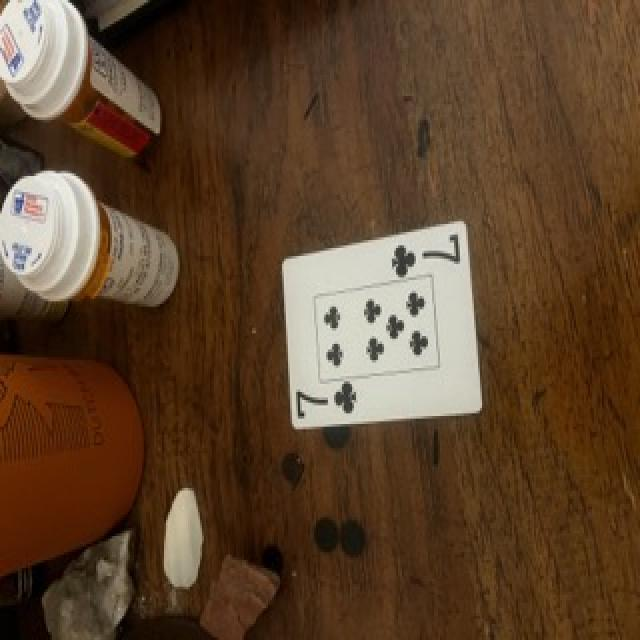7 of clubs: (284, 222, 481, 428)
